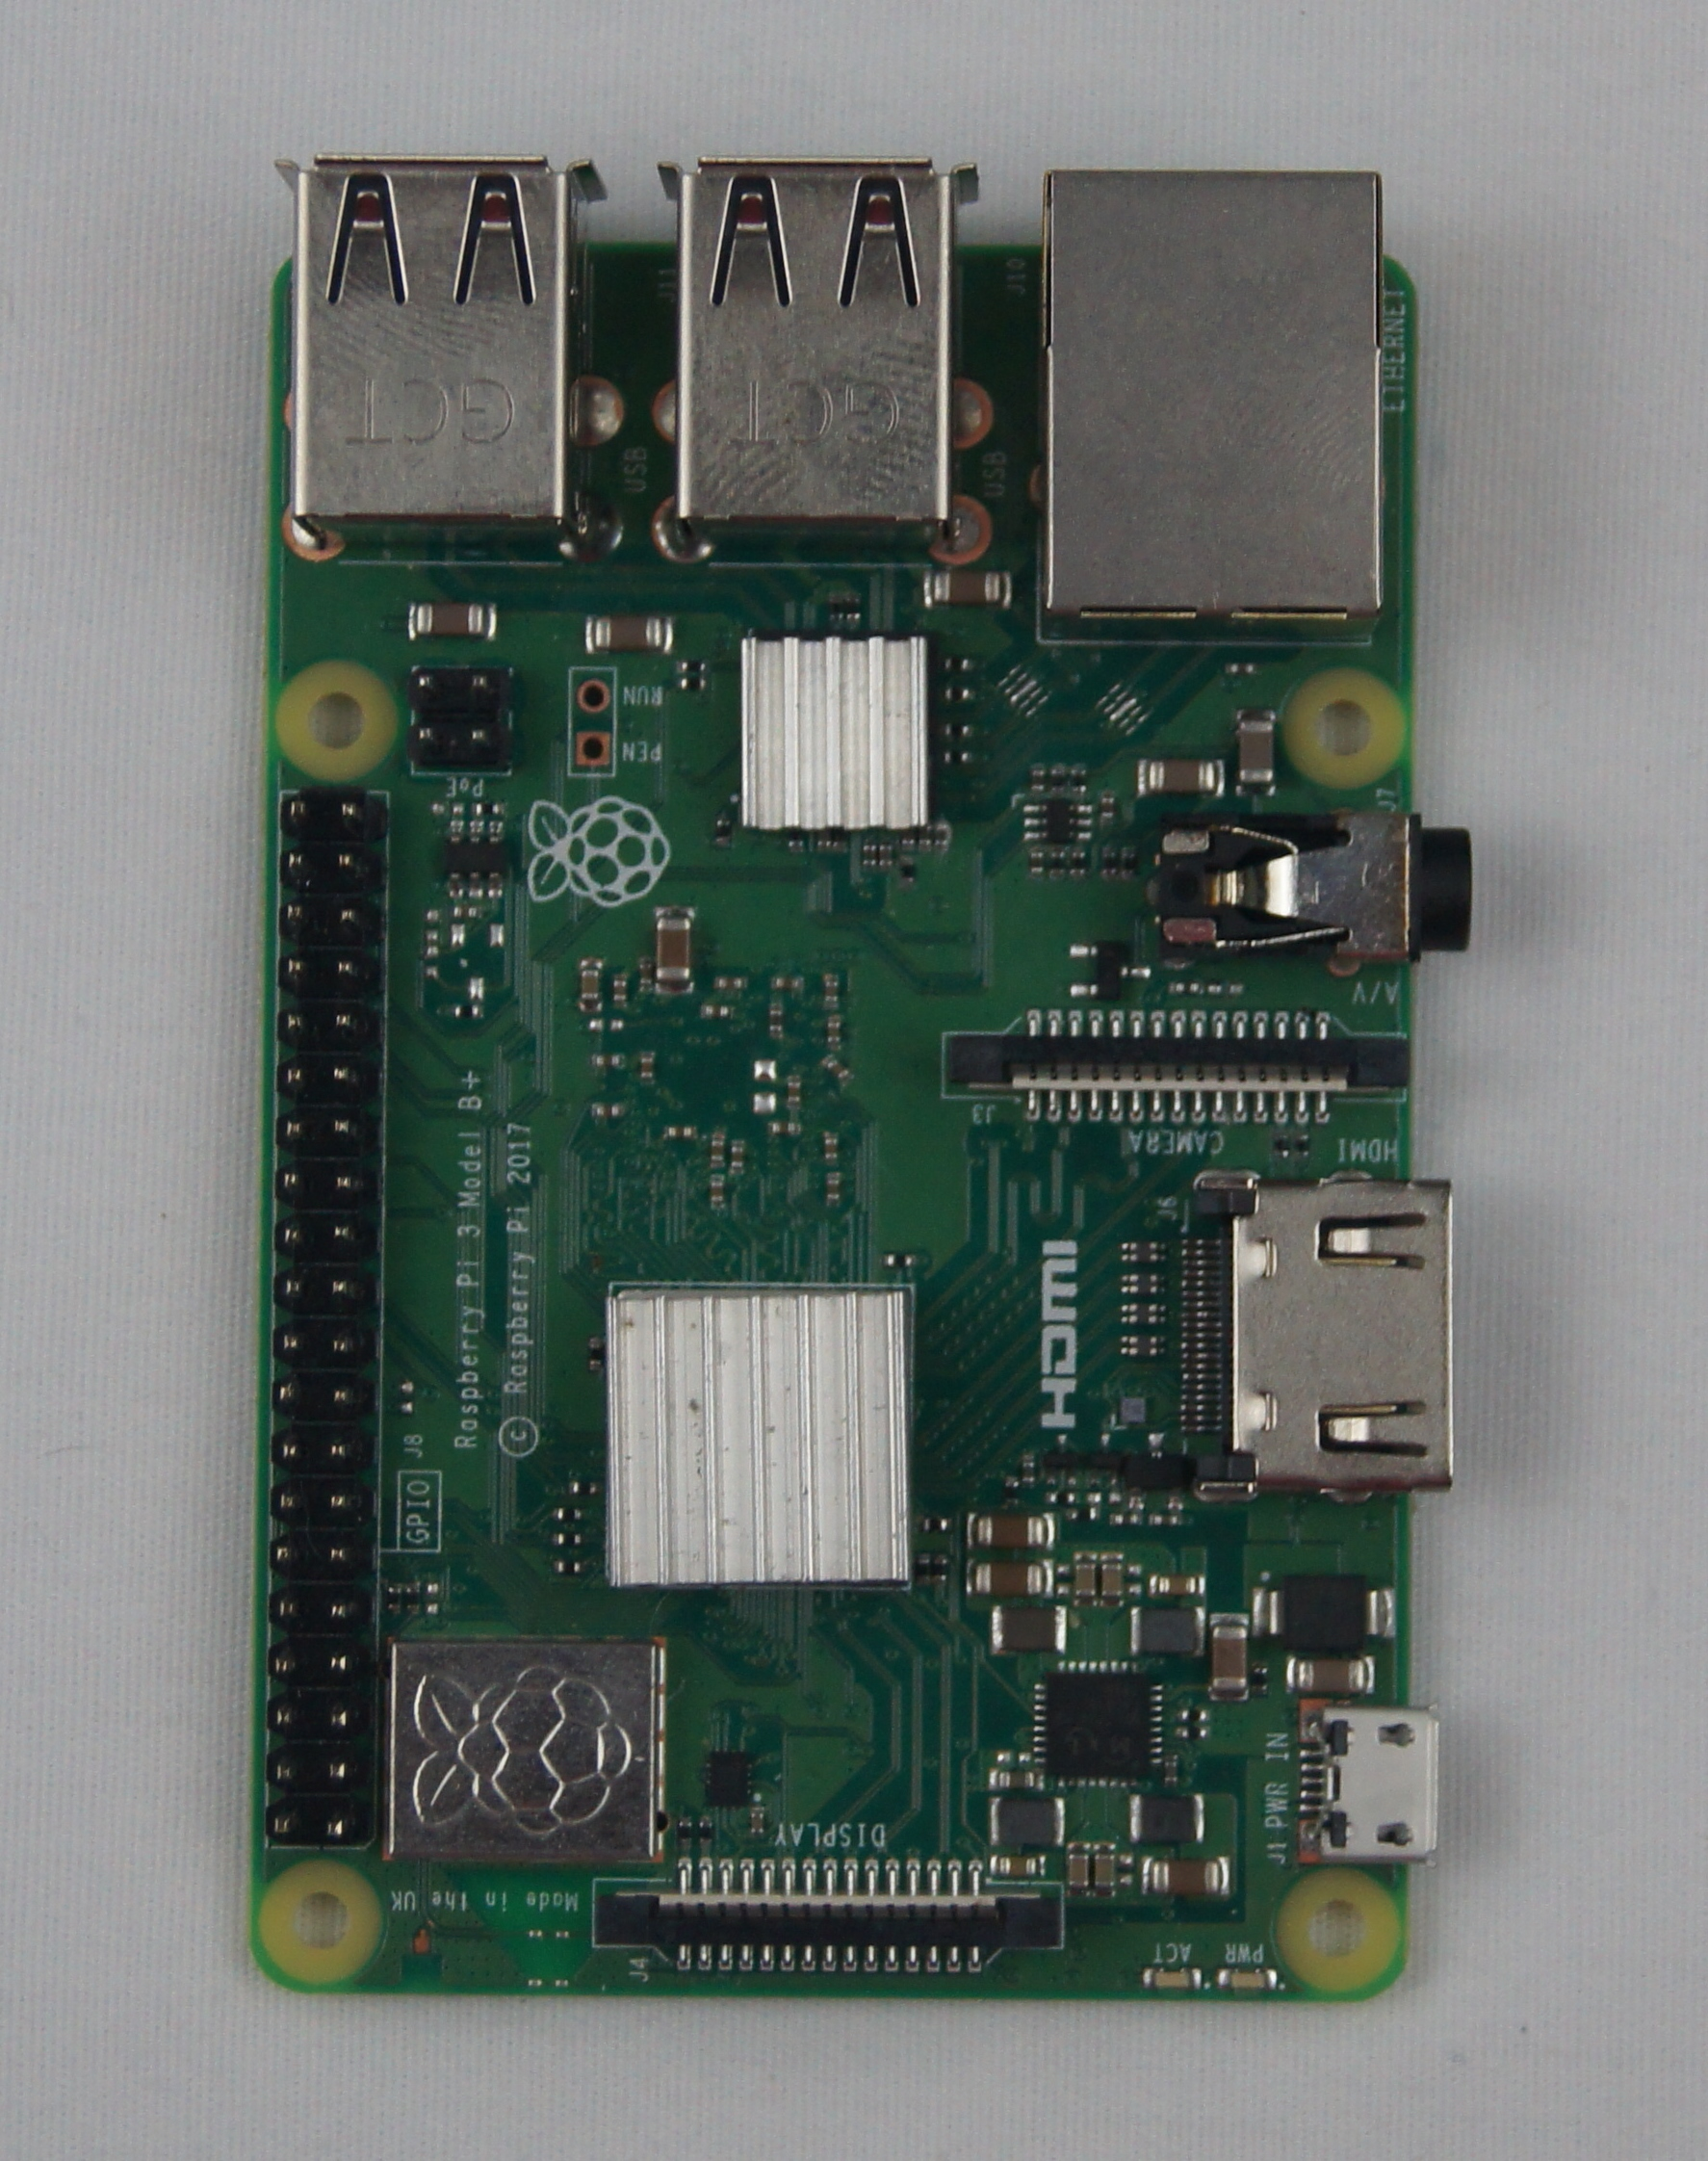resistor: (943, 717, 977, 740), (882, 1251, 917, 1272), (675, 675, 708, 695), (943, 744, 973, 765), (1068, 845, 1087, 877), (940, 656, 973, 674), (675, 656, 707, 674), (917, 1552, 933, 1587), (931, 1552, 949, 1584), (943, 684, 971, 703), (1071, 765, 1091, 793), (452, 1003, 482, 1021), (554, 1531, 586, 1547), (1005, 1475, 1021, 1507), (1045, 1487, 1077, 1503), (589, 1335, 603, 1370), (1122, 844, 1136, 879), (714, 819, 733, 844), (568, 1479, 598, 1494), (1178, 1707, 1208, 1722), (1050, 845, 1066, 875), (1052, 761, 1068, 791), (1177, 1726, 1210, 1740), (403, 1584, 419, 1612), (1068, 1507, 1100, 1521), (924, 1516, 949, 1533), (470, 802, 505, 814), (554, 1505, 584, 1519), (556, 1559, 586, 1573), (1103, 849, 1117, 879), (388, 1584, 402, 1612)
